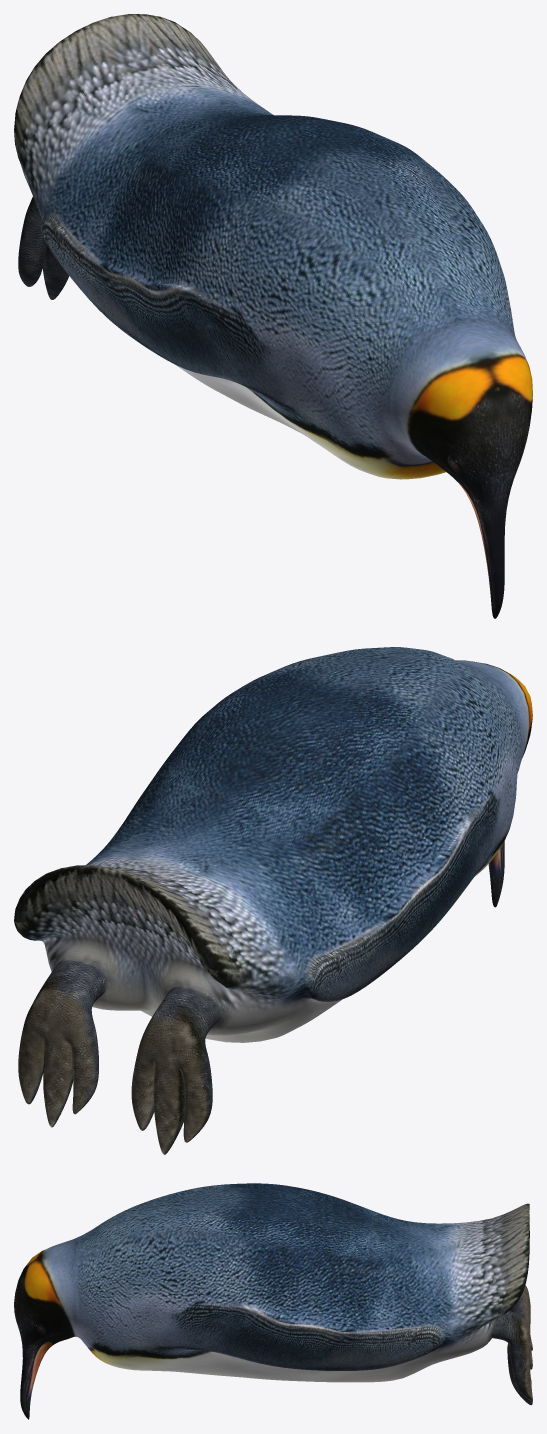
Rendered from penguin.obj.
3 renders of one model, top to bottom at view 1: azimuth 30°, elevation 25°; view 2: azimuth 150°, elevation 25°; view 3: azimuth 270°, elevation 25°, orthographic. The views are drawn at different scales.
Visible parts, largest first — view 1: pinguin; view 2: pinguin; view 3: pinguin.
Part boxes in pixels (x1,y1,x2,y2): pinguin: [14, 14, 532, 618]; pinguin: [14, 647, 532, 1154]; pinguin: [14, 1183, 532, 1419].
Size of the model in its own units: 43.35 by 49.12 by 103.
